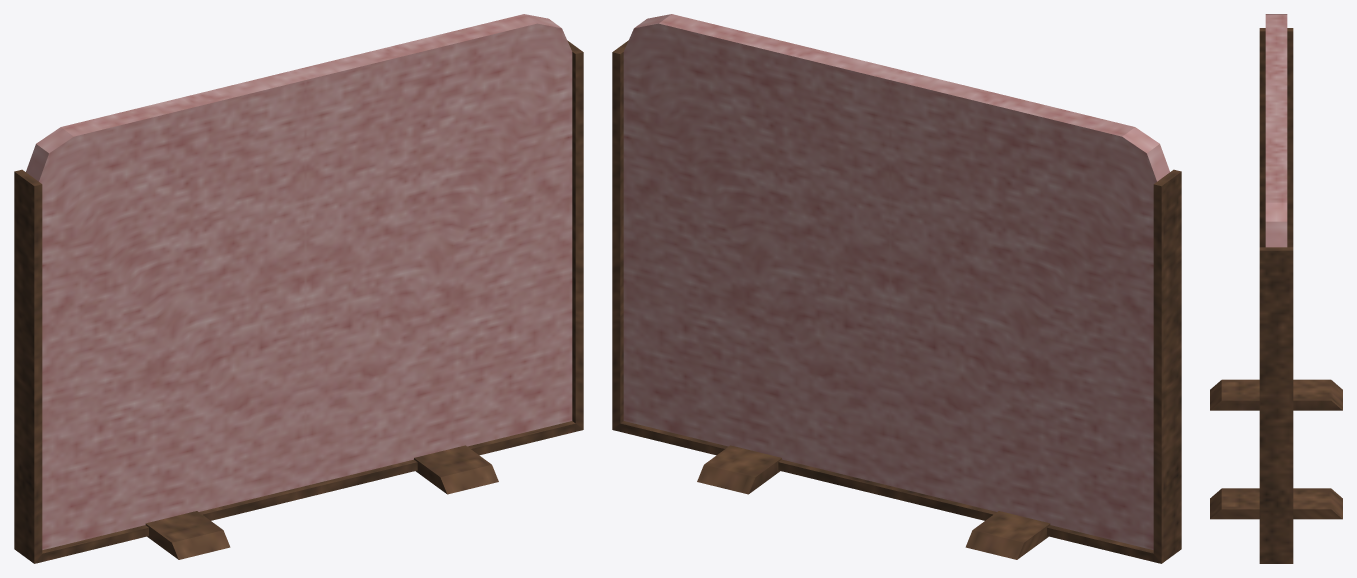
Rendered from divider_wood_red_low_half.fbx.
The picture shows the model from 3 angles, left to right: view 1: azimuth 30°, elevation 25°; view 2: azimuth 150°, elevation 25°; view 3: azimuth 270°, elevation 25°; orthographic projection. The views are drawn at different scales.
Parts seen in each view (by area): view 1: divider_wood_red_low_half; view 2: divider_wood_red_low_half; view 3: divider_wood_red_low_half.
Boxes of the visible parts, <box> form: divider_wood_red_low_half: <box>14,14,583,563</box>; divider_wood_red_low_half: <box>612,14,1181,563</box>; divider_wood_red_low_half: <box>1210,14,1342,563</box>.
Size of the model in its own units: 207 by 150 by 52.3.
Materials: 1 (1 with a texture image).
